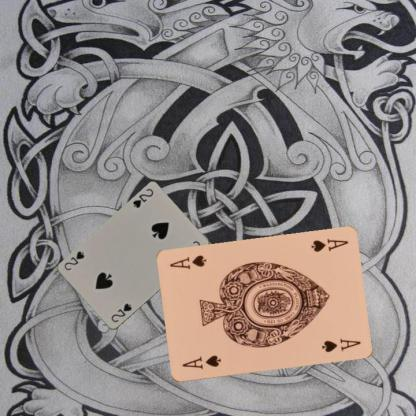2s: (130, 186, 155, 210), (109, 300, 133, 324)
As: (179, 353, 222, 371), (308, 236, 350, 254)
